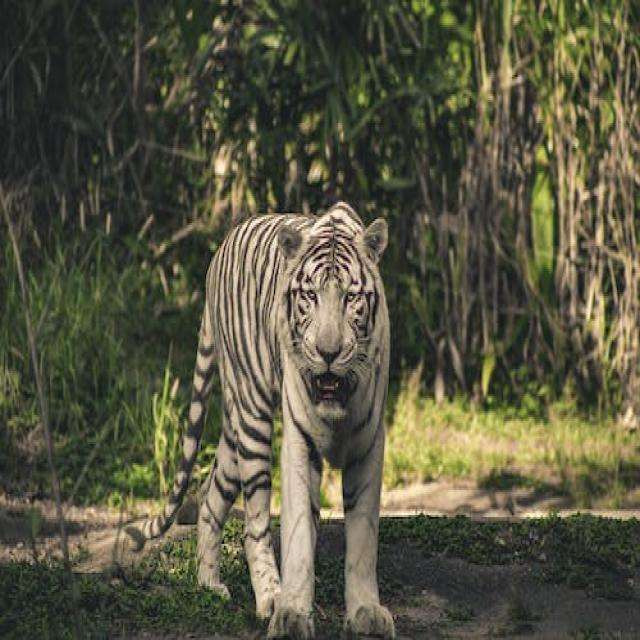not_pig: (111, 198, 397, 638)
